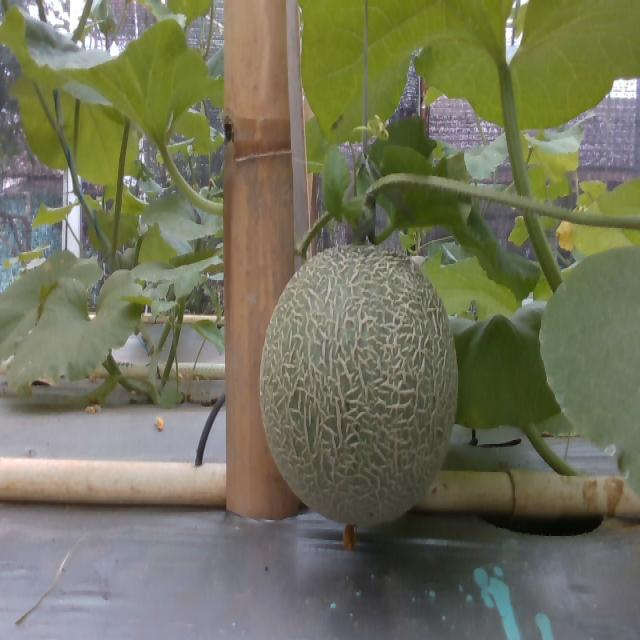melon: (261, 245, 458, 525)
